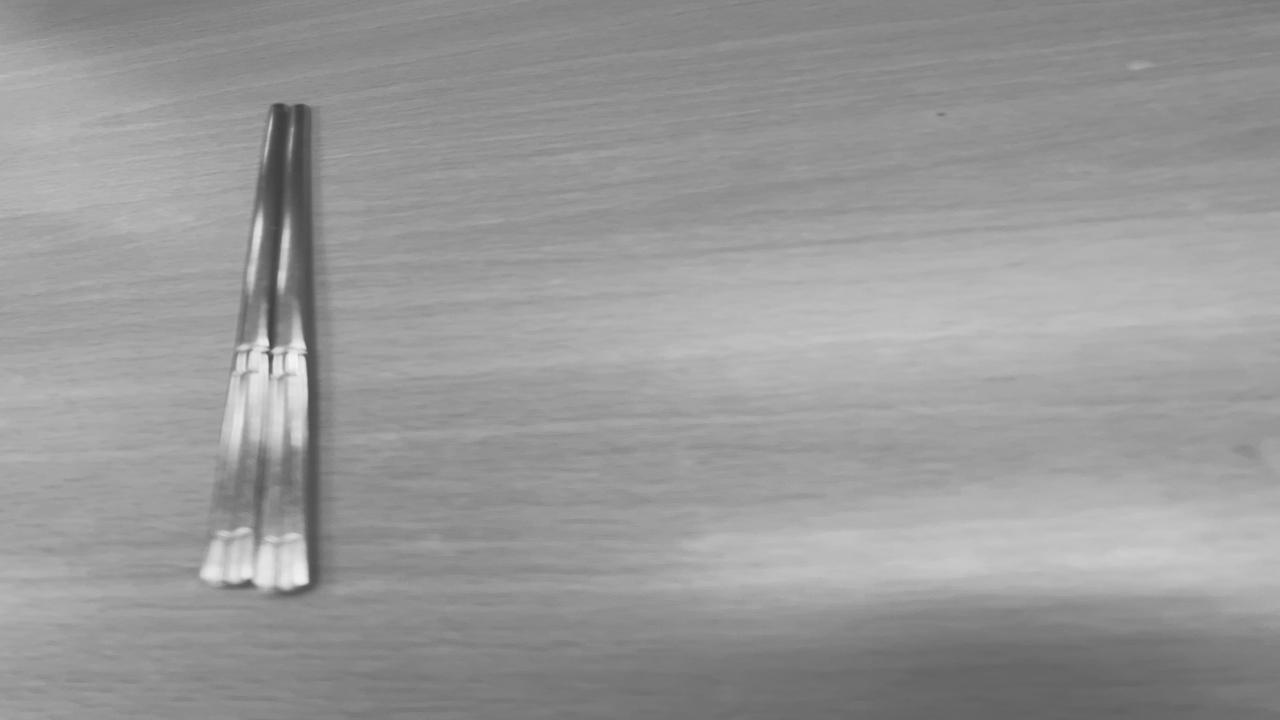chopstick: (201, 104, 313, 590)
